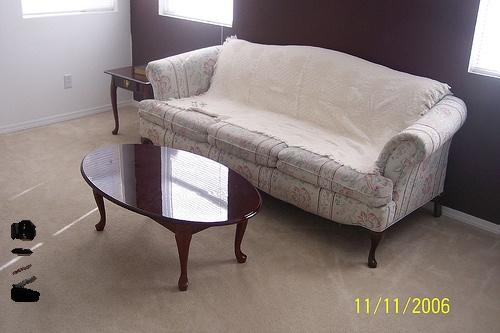tampered: (12, 221, 40, 302)
